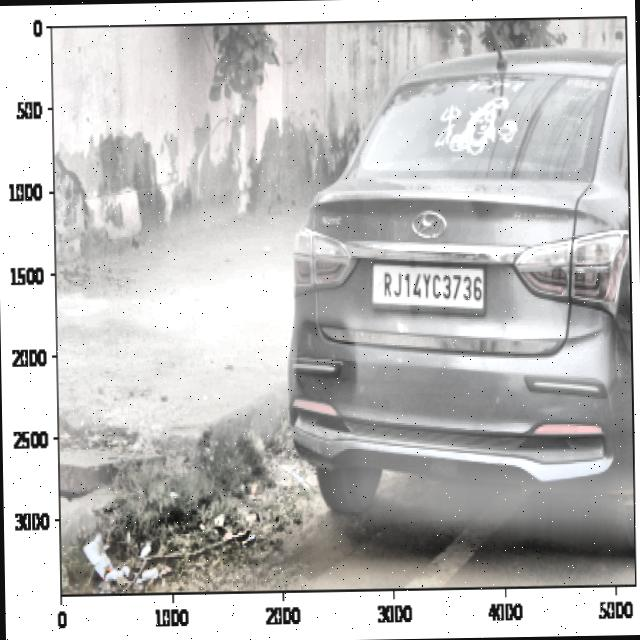license_plate: (378, 264, 484, 308)
